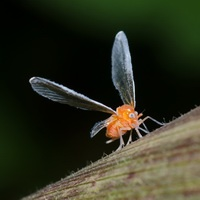insect: (29, 31, 163, 148)
